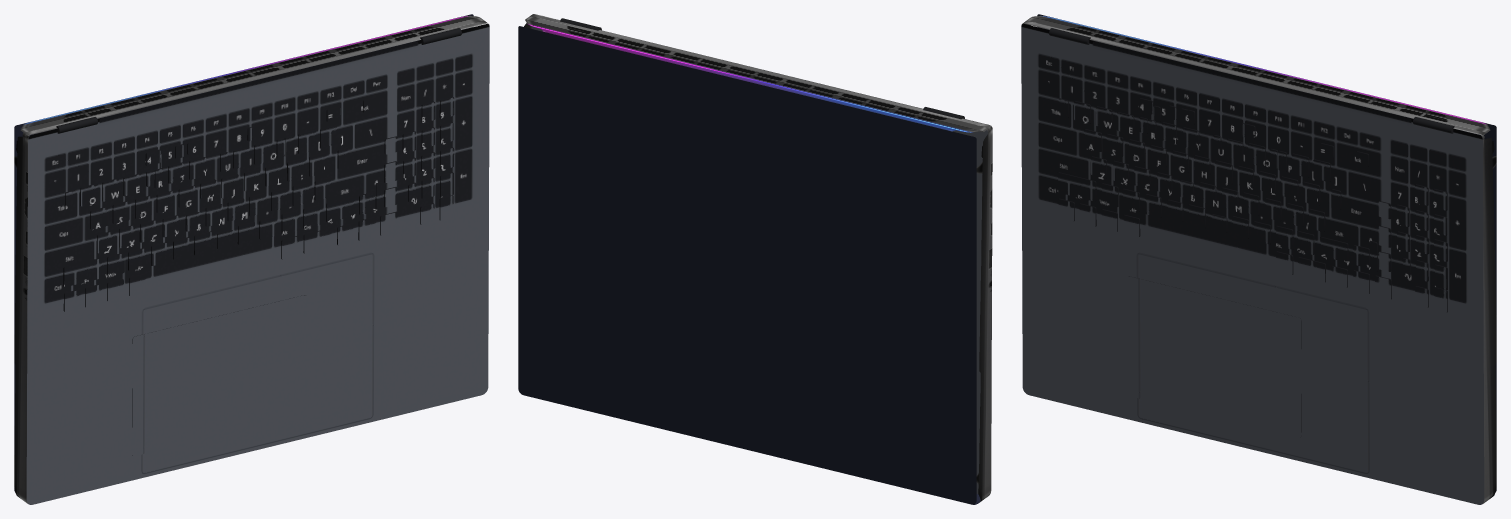
File: body.obj
3 views of the same model, side by side, from view 1: azimuth 30°, elevation 25°; view 2: azimuth 150°, elevation 25°; view 3: azimuth 330°, elevation 25° (orthographic).
Visible parts, largest first — view 1: deck, keys.001, base.002, base.003, keys, base.004, hinge; view 2: base.004, base.002, base.003, deck; view 3: deck, keys.001, base.002, base.001, keys, base.004, hinge.
Boxes of the visible parts, bbox=[...] form: deck: bbox=[26, 24, 489, 504]; keys.001: bbox=[64, 97, 454, 311]; base.002: bbox=[20, 15, 488, 136]; base.003: bbox=[14, 133, 28, 503]; keys: bbox=[63, 97, 453, 311]; base.004: bbox=[14, 14, 473, 491]; hinge: bbox=[56, 28, 461, 133]; base.004: bbox=[518, 26, 976, 504]; base.002: bbox=[525, 14, 991, 132]; base.003: bbox=[976, 126, 992, 501]; deck: bbox=[532, 26, 988, 493]; deck: bbox=[1021, 24, 1484, 504]; keys.001: bbox=[1057, 98, 1447, 312]; base.002: bbox=[1022, 15, 1490, 136]; base.001: bbox=[1482, 135, 1496, 503]; keys: bbox=[1058, 98, 1447, 312]; base.004: bbox=[1037, 14, 1496, 491]; hinge: bbox=[1049, 28, 1454, 133].
Bounding box in the file's own units: 405 × 313 × 25.5.
